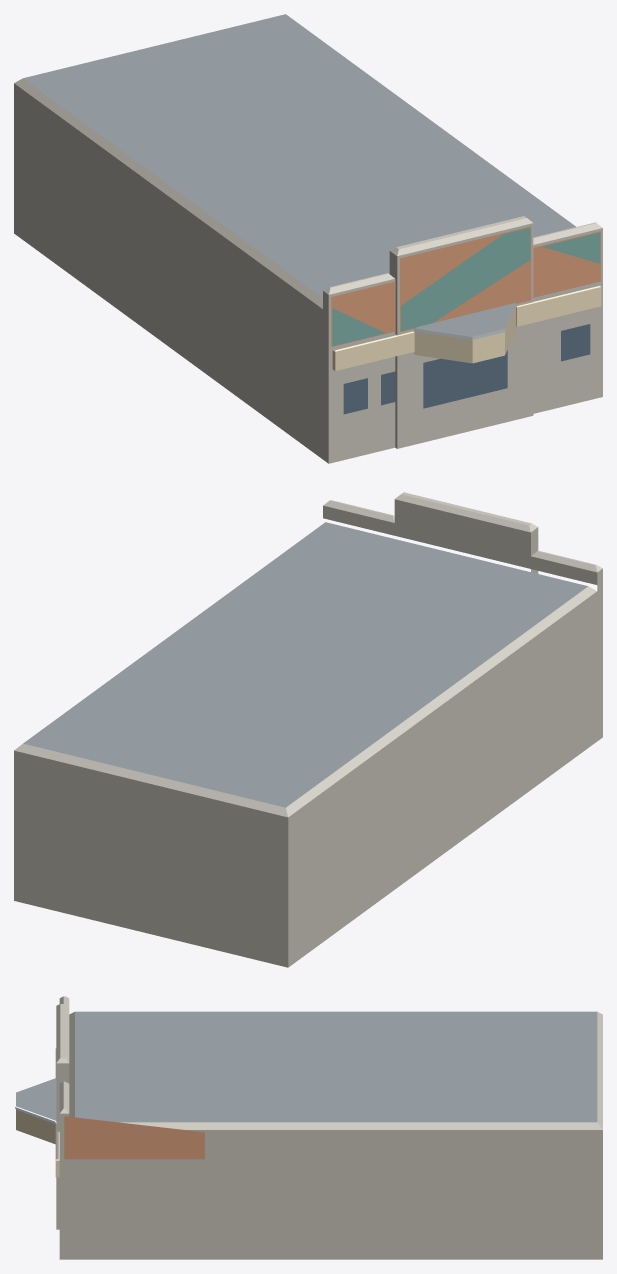
Rendered from neighborhood-theatre.glb.
3 views of the same model, one above another, from view 1: azimuth 30°, elevation 25°; view 2: azimuth 150°, elevation 25°; view 3: azimuth 270°, elevation 25° (orthographic). The views are drawn at different scales.
Visible parts, largest first — view 1: Neighborhood Theatre; view 2: Neighborhood Theatre; view 3: Neighborhood Theatre.
Boxes of the visible parts, x1=… form: Neighborhood Theatre: x1=14, y1=14, x2=602, y2=463; Neighborhood Theatre: x1=14, y1=492, x2=602, y2=967; Neighborhood Theatre: x1=15, y1=996, x2=602, y2=1259.
Size of the model in its own units: 16.93 by 11.6 by 36.42.
